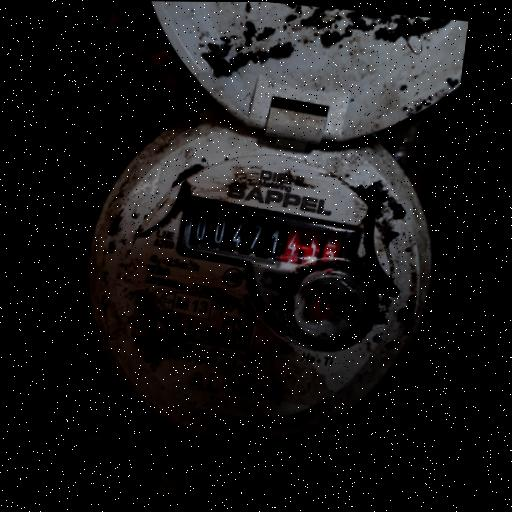0: (188, 209, 215, 248), (207, 213, 232, 252)
1: (261, 222, 287, 261)
2: (319, 231, 345, 267)
4: (280, 225, 307, 265), (225, 215, 251, 254)
5: (300, 228, 324, 267)
7: (243, 219, 269, 259)
border_water_meter_number: (171, 194, 366, 288)
